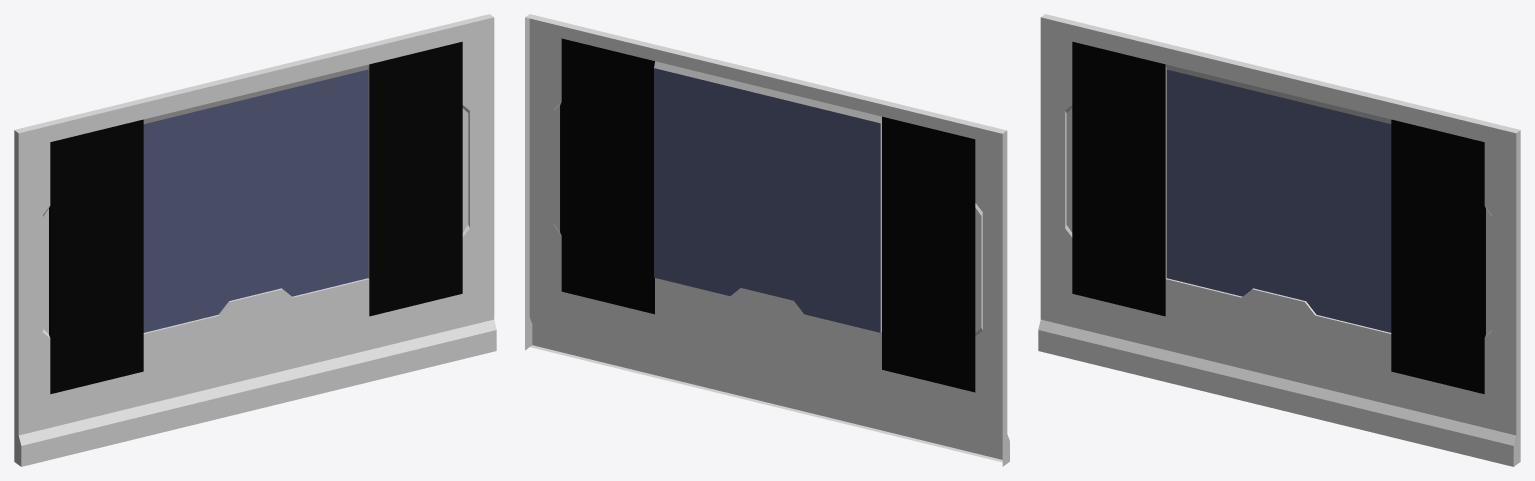
Rendered from WallFancy6x4.glb.
3 renders of one model, left to right at view 1: azimuth 30°, elevation 25°; view 2: azimuth 150°, elevation 25°; view 3: azimuth 330°, elevation 25°, orthographic.
Parts seen in each view (by area): view 1: WallFancy6x4; view 2: WallFancy6x4; view 3: WallFancy6x4.
Boxes of the visible parts, x1,y1,x2,y2 form: WallFancy6x4: (14,14,496,466); WallFancy6x4: (525,14,1009,466); WallFancy6x4: (1038,14,1520,466).
Size of the model in its own units: 6 by 4 by 0.1571.
